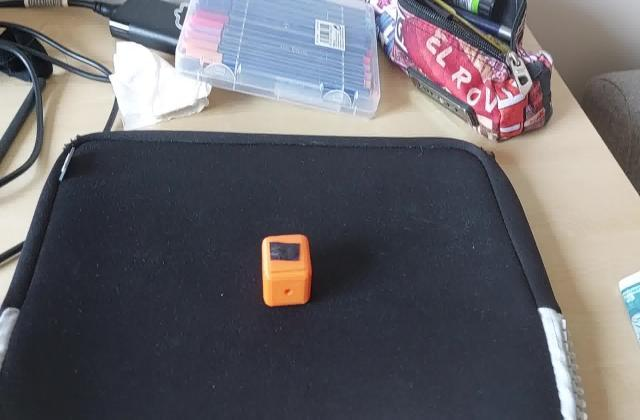black: (266, 238, 304, 264)
cube: (258, 232, 314, 309)
